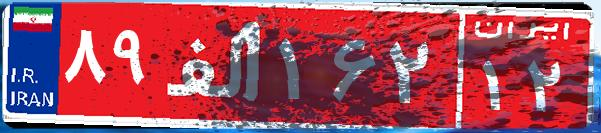1: (273, 28, 330, 110), (475, 38, 525, 113)
2: (385, 28, 445, 110), (525, 38, 570, 115)
6: (330, 28, 385, 110)
8: (57, 26, 110, 107)
9: (110, 28, 158, 105)
الف: (158, 15, 273, 115)
